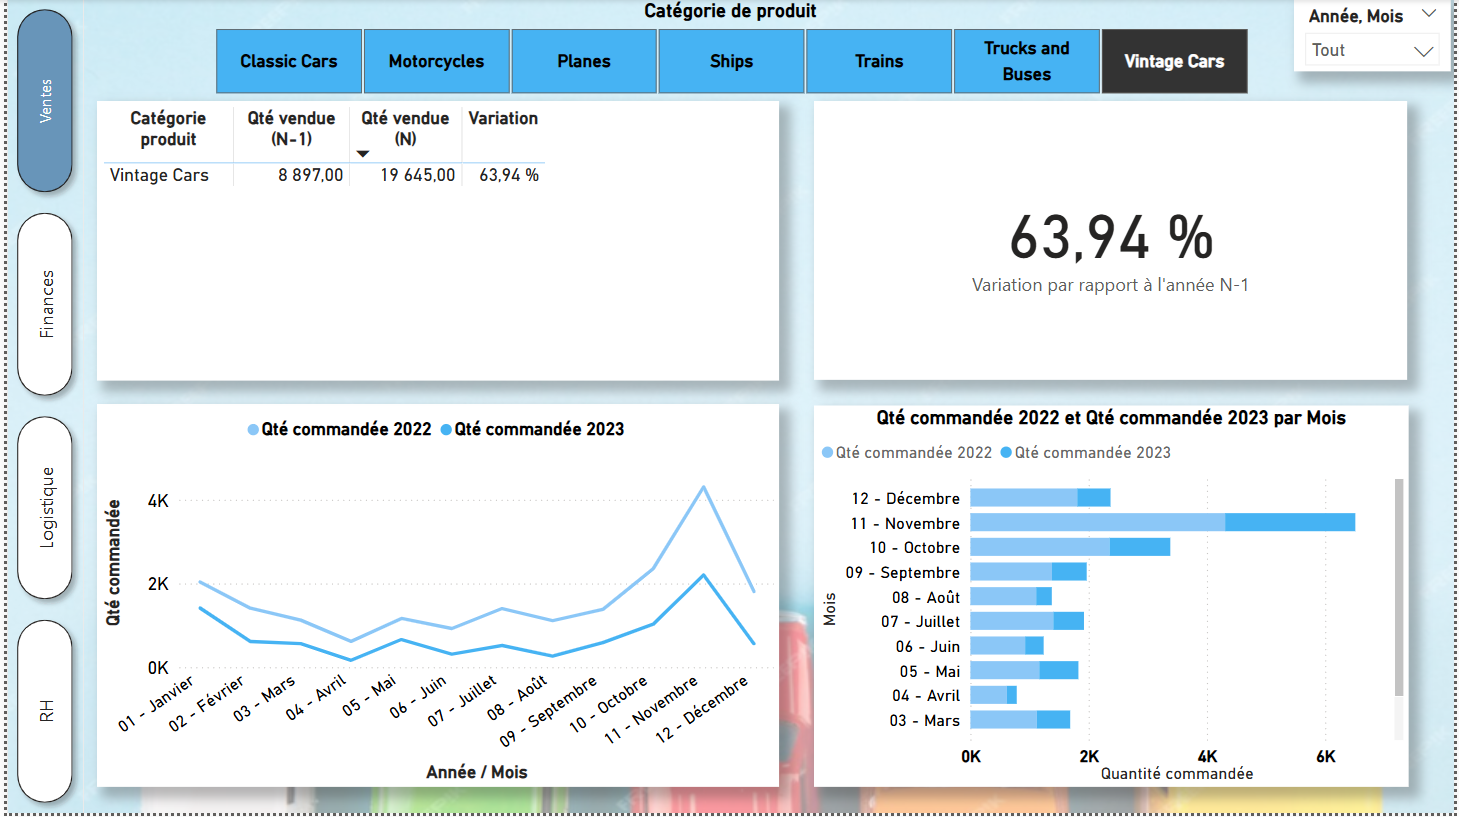

What the dashboard file says about the page in this screenshot:
{"tool":"powerbi","page":{"name":"Ventes","canvas":[1280,720],"ordinal":0},"visuals":[{"type":"lineChart","fields":{"Y":["Sum(ventes1.Qté_commandée_année_N)","Sum(ventes1.Qté_commandée_année_N-1)"],"Category":["ventes1.Nom_Mois_Trié"]},"box":[79.7,358.2,603.6,338.5],"z":0},{"type":"slicer","title":"Catégorie de produit","fields":{"Values":["Requête1.Catégorie_produit"]},"box":[159.4,0,961.8,90.4],"z":1000},{"type":"slicer","fields":{"Values":["ventes1.Année","ventes1.Mois"]},"box":[1138.5,0,138.8,64.3],"z":2000},{"type":"tableEx","fields":{"Values":["Requête1.Catégorie_produit","Sum(Requête1.Qté_commandée_année_N-1)","Sum(Requête1.Qté_commandée_année_N)","Avg(Requête1.Variation)"]},"box":[79.7,90.4,603.6,247.2],"z":3000},{"type":"barChart","fields":{"Category":["ventes1.Nom_Mois_Trié","ventes1.Année"],"Y":["Sum(ventes1.Qté_commandée_année_N)","Sum(ventes1.Qté_commandée_année_N-1)"]},"box":[713.2,359.5,526.1,337.6],"z":4000},{"type":"card","fields":{"Values":["Avg(ventes1.Variation)"]},"box":[713.9,90.2,524.7,246.8],"z":5000},{"type":"pageNavigator","box":[0,0,67.2,720],"z":6000}]}

Visuals, with their boxes in screenshot pixels (x1, y1, x2, y2), scaled from the page's 1280x720 canvas onto the 1459x817 screenshot:
lineChart - Sum(ventes1.Qté_commandée_année_N) x Sum(ventes1.Qté_commandée_année_N-1): region(91, 406, 779, 791)
"Catégorie de produit" slicer: region(182, 0, 1278, 103)
slicer - ventes1.Année x ventes1.Mois: region(1298, 0, 1456, 73)
tableEx - Requête1.Catégorie_produit x Sum(Requête1.Qté_commandée_année_N-1): region(91, 103, 779, 383)
barChart - ventes1.Nom_Mois_Trié x ventes1.Année: region(813, 408, 1413, 791)
card - Avg(ventes1.Variation): region(814, 102, 1412, 382)
pageNavigator: region(0, 0, 77, 816)
